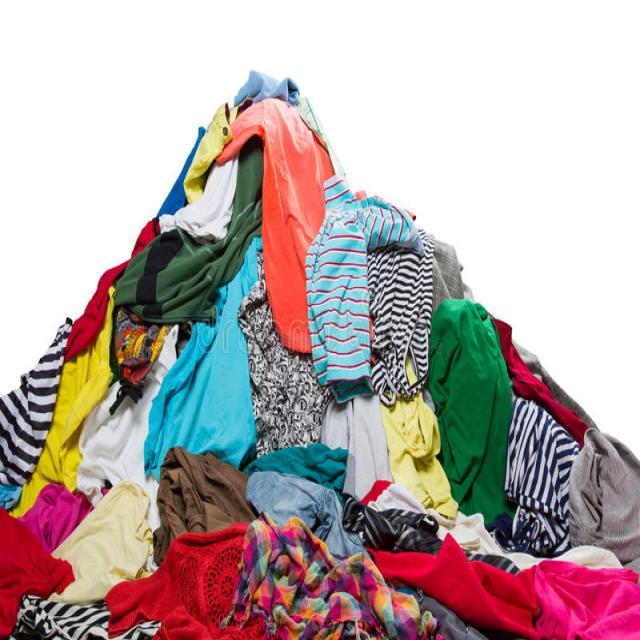clothes: (185, 179, 338, 640)
